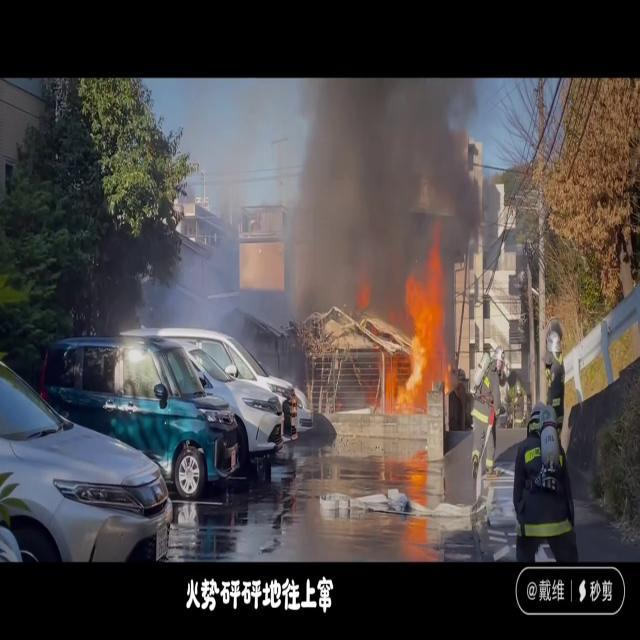Fire: (376, 232, 452, 412)
Smoke: (278, 78, 494, 310)
